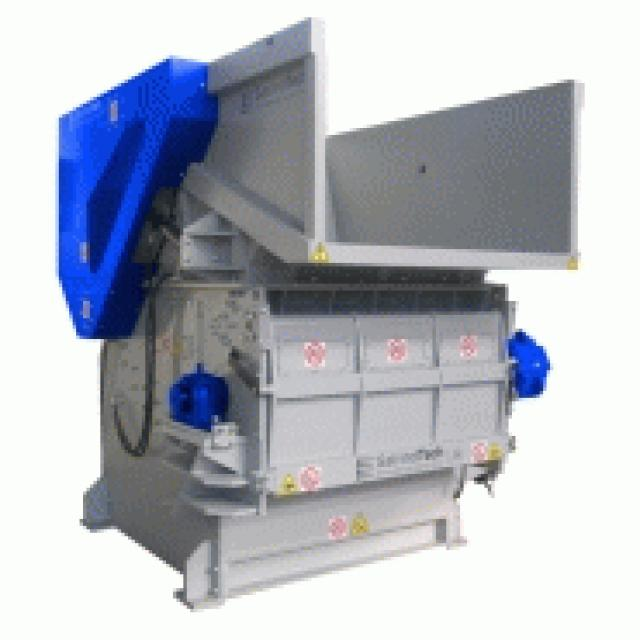Broyeur: (62, 24, 597, 314)
